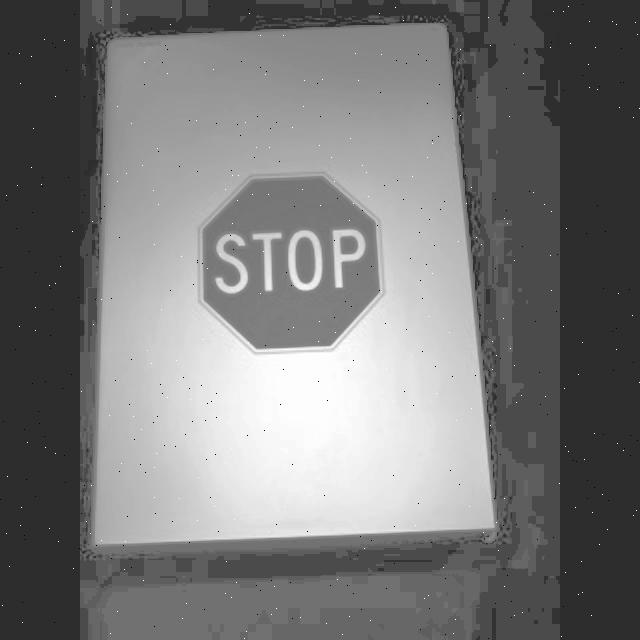STOP: (198, 168, 380, 354)
